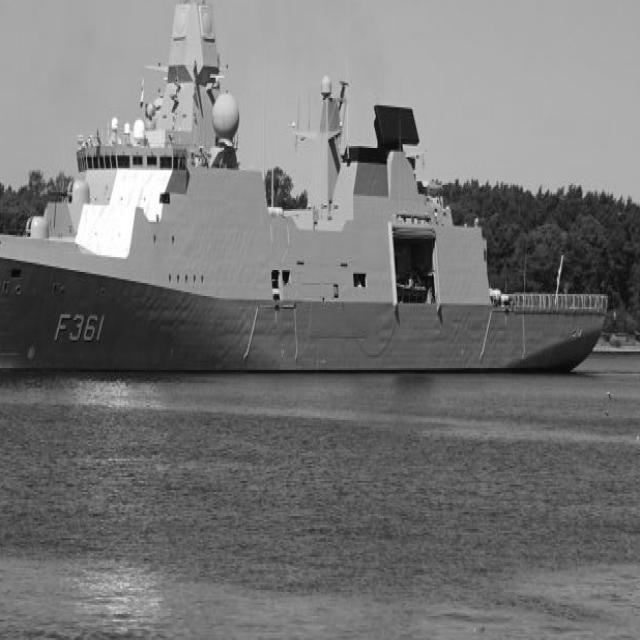Fragata: (1, 1, 611, 384)
